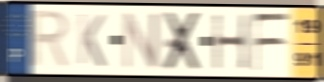F: (251, 12, 291, 74)
H: (210, 12, 251, 72)
K: (76, 11, 107, 69)
N: (120, 9, 162, 72)
R: (28, 8, 73, 72)
X: (162, 10, 204, 73)
